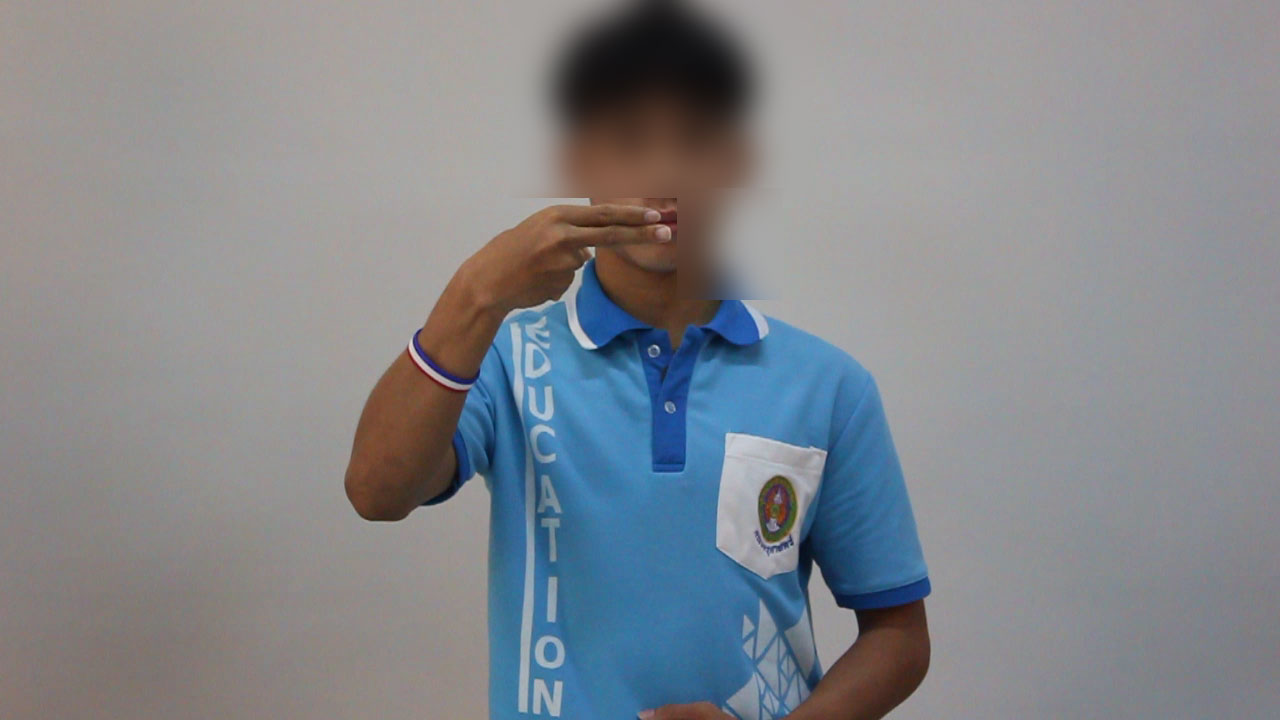hor: (448, 194, 682, 327)
